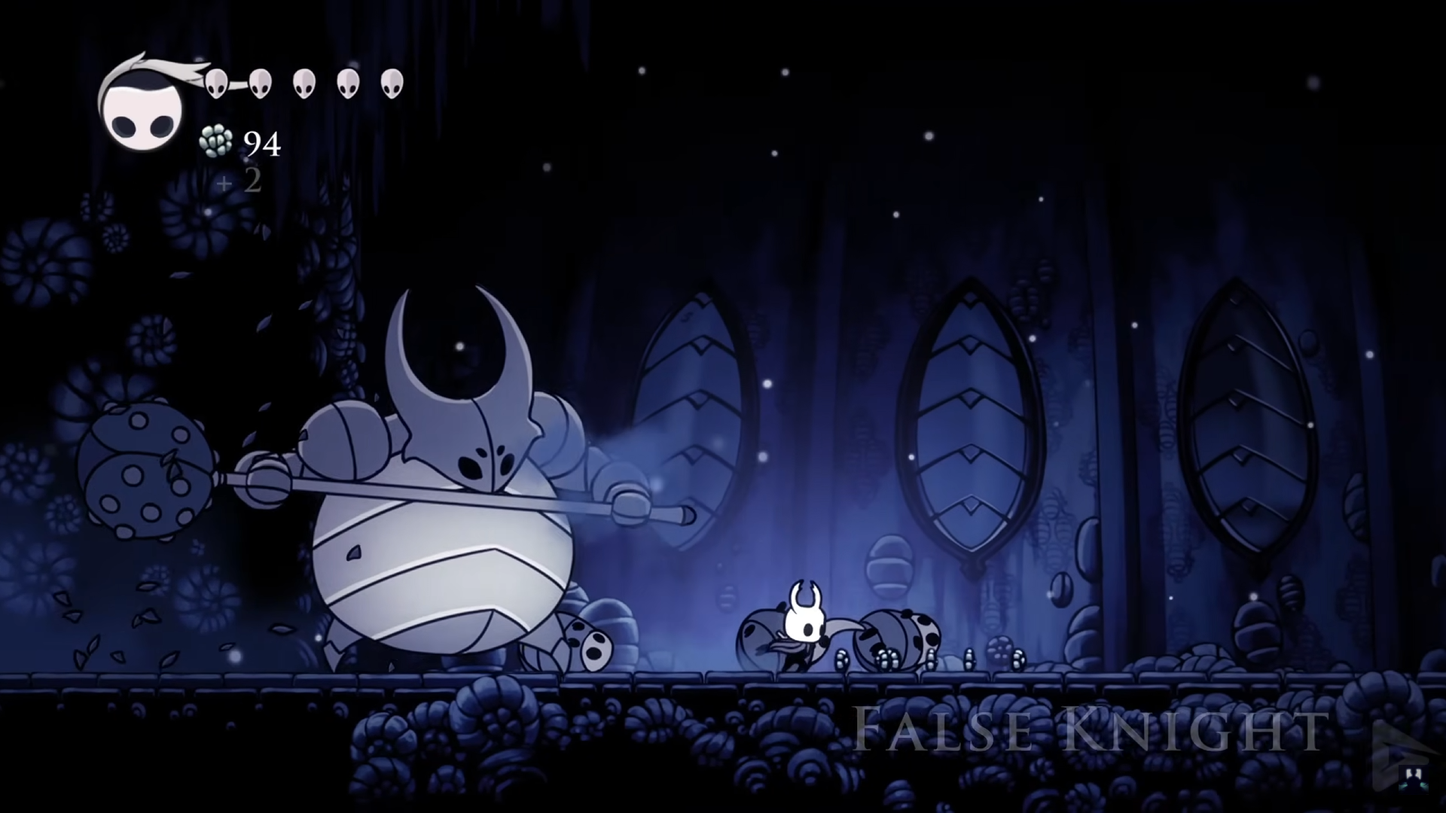HK: (772, 574, 837, 674)
